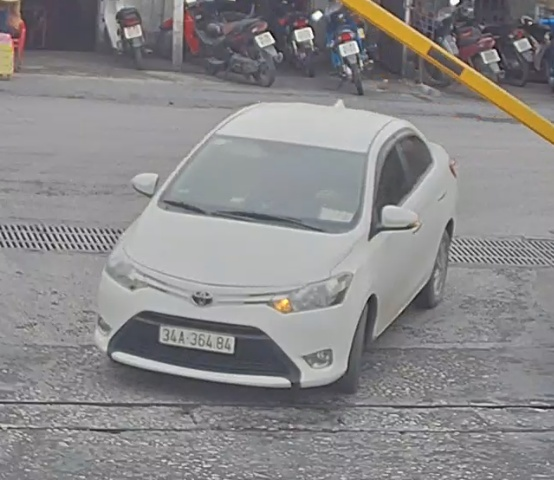vehicle plate: (155, 319, 243, 360)
